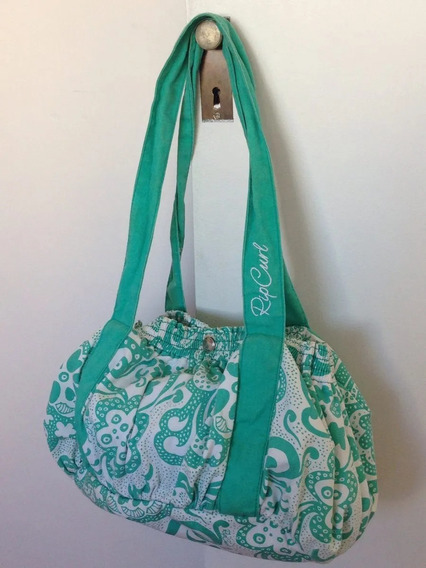cartera: (41, 11, 380, 565)
